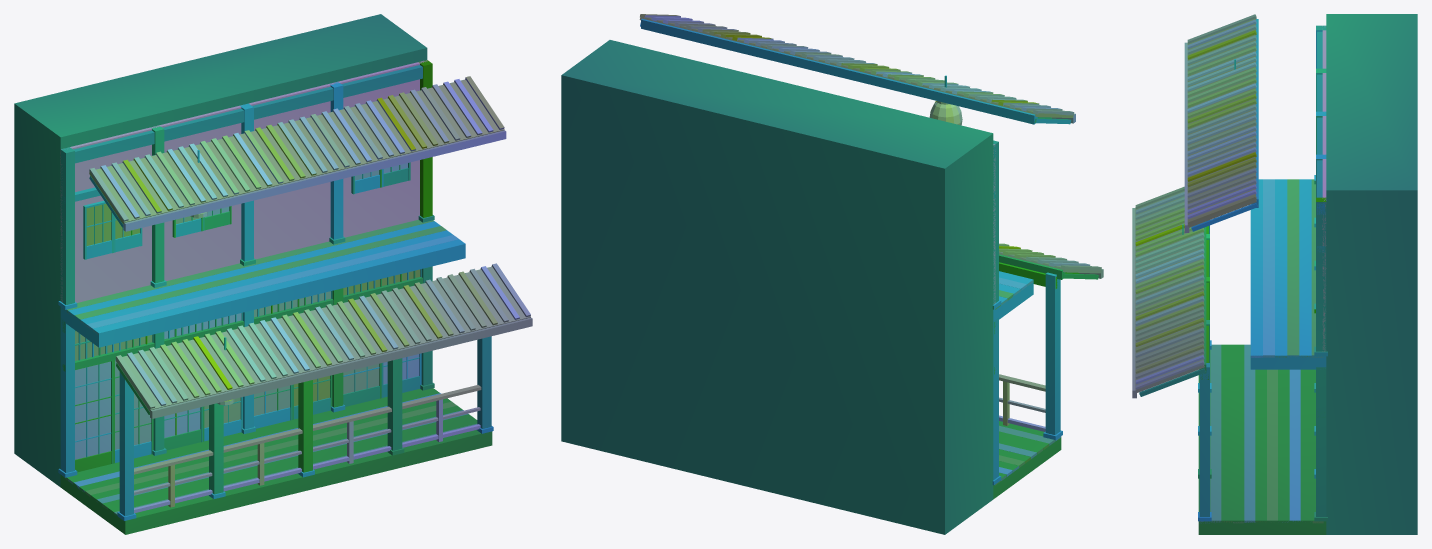
File: B_facade_2.glb
3 renders of one model, left to right at view 1: azimuth 30°, elevation 25°; view 2: azimuth 150°, elevation 25°; view 3: azimuth 270°, elevation 25°, orthographic. The views are drawn at different scales.
Visible parts, largest first — view 1: B_facade_2; view 2: B_facade_2; view 3: B_facade_2.
Part boxes in pixels (box(x1,y1,x2,y2)): B_facade_2: box(14, 14, 532, 534); B_facade_2: box(561, 14, 1103, 534); B_facade_2: box(1132, 14, 1417, 534).
Bounding box in the file's own units: 8.3 × 7.3 × 5.47.
